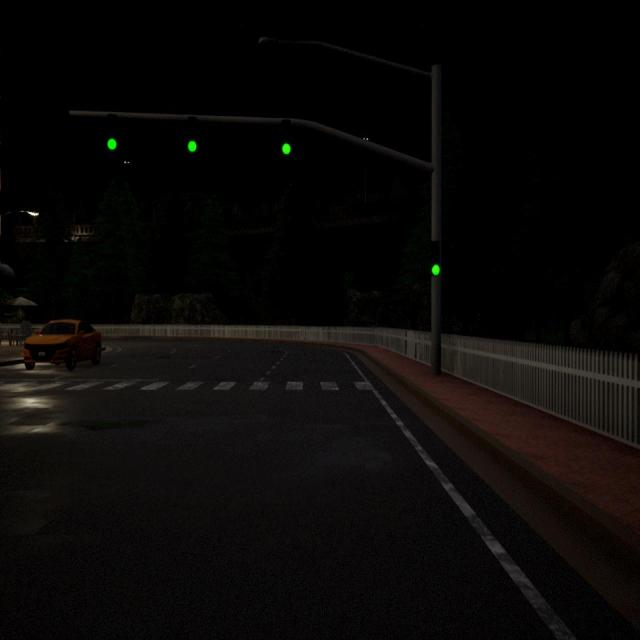Vehicle: (22, 318, 103, 373)
traffic_light: (280, 119, 292, 157), (428, 240, 440, 278), (106, 114, 118, 151), (187, 116, 198, 155)
